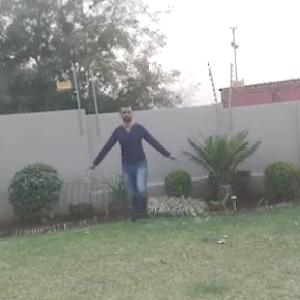land: (90, 102, 185, 228)
